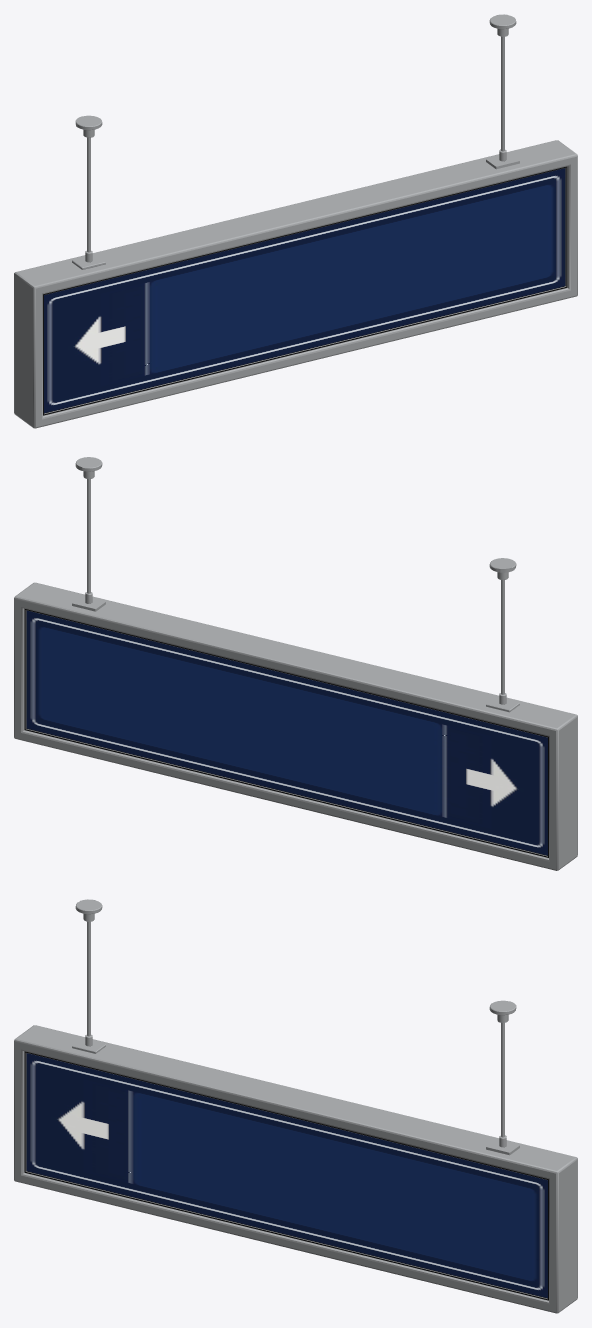
File: gteki_sign_hanging_navy_left.glb
3 renders of one model, top to bottom at view 1: azimuth 30°, elevation 25°; view 2: azimuth 150°, elevation 25°; view 3: azimuth 330°, elevation 25°, orthographic.
Visible parts, largest first — view 1: VIS_faces, VIS_frame, VIS_mount; view 2: VIS_faces, VIS_frame, VIS_mount; view 3: VIS_faces, VIS_frame, VIS_mount.
Boxes of the visible parts, x1,y1,x2,y2 form: VIS_faces: [44, 168, 565, 412]; VIS_frame: [14, 140, 577, 428]; VIS_mount: [72, 14, 519, 269]; VIS_faces: [26, 610, 547, 855]; VIS_frame: [14, 582, 577, 870]; VIS_mount: [72, 457, 519, 712]; VIS_faces: [26, 1053, 547, 1297]; VIS_frame: [14, 1025, 577, 1313]; VIS_mount: [72, 899, 519, 1155].
Size of the model in its own units: 1.8 by 0.9 by 0.12.
Materials: 4 (2 with a texture image).
